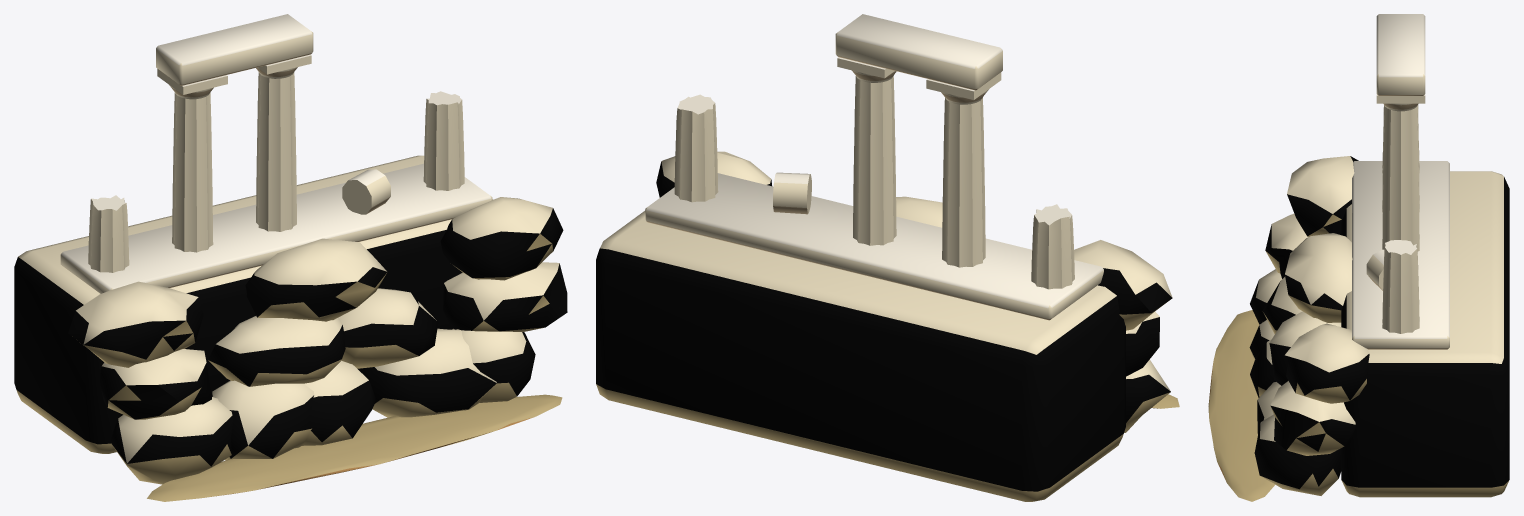
The model's file is GreekCliffA.fbx.
The picture shows the model from 3 angles, left to right: view 1: azimuth 30°, elevation 25°; view 2: azimuth 150°, elevation 25°; view 3: azimuth 270°, elevation 25°; orthographic projection. The views are drawn at different scales.
Parts seen in each view (by area): view 1: GreekCliffA; view 2: GreekCliffA; view 3: GreekCliffA.
Boxes of the visible parts, box(x1,y1,x2,y2) form: GreekCliffA: box(14, 14, 567, 501); GreekCliffA: box(596, 14, 1179, 501); GreekCliffA: box(1208, 14, 1509, 501).
Size of the model in its own units: 8.54 by 6.47 by 4.93.
1 material, 1 textured.
